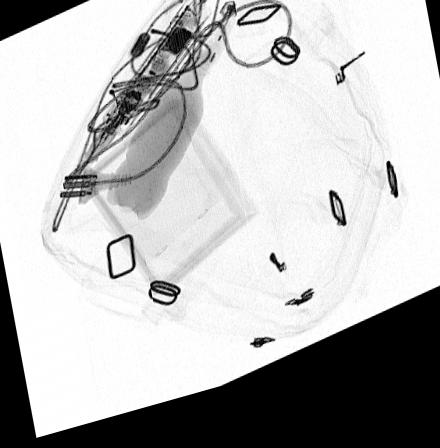Lighter: (195, 12, 236, 77)
